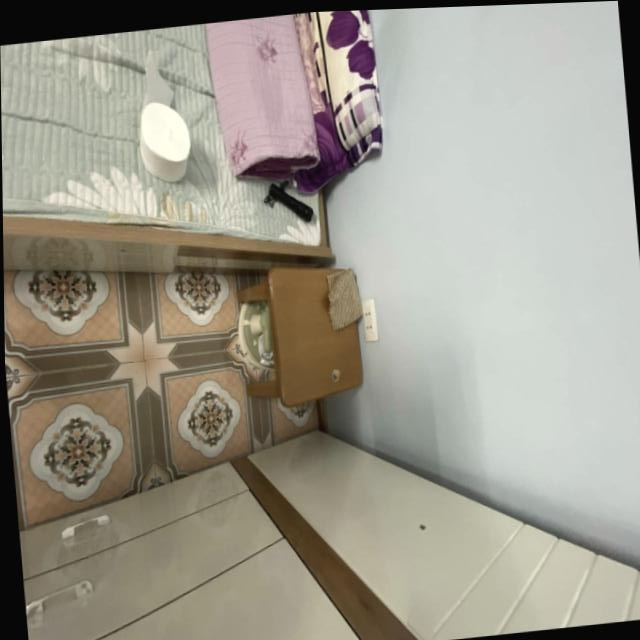outlet: (362, 298, 379, 342)
